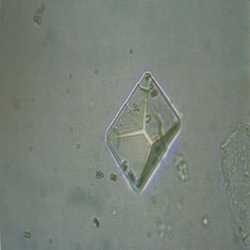Crystal: (94, 60, 186, 201)
